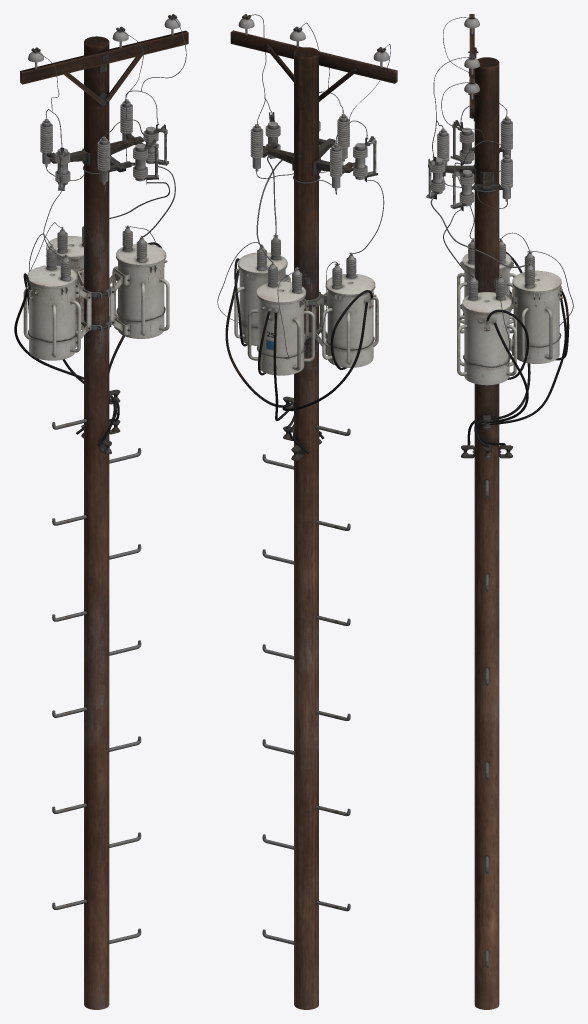
The model's file is wood_pole_01.fbx.
3 views of the same model, side by side, from view 1: azimuth 30°, elevation 25°; view 2: azimuth 150°, elevation 25°; view 3: azimuth 270°, elevation 25° (orthographic). The views are drawn at different scales.
Parts seen in each view (by area): view 1: 1_wood_pole; view 2: 1_wood_pole; view 3: 1_wood_pole.
Part boxes in pixels (x1,y1,x2,y2): 1_wood_pole: [14, 14, 188, 1009]; 1_wood_pole: [217, 14, 397, 1009]; 1_wood_pole: [426, 14, 573, 1009].
Bounding box in the file's own units: 250 × 1407 × 196.
Materials: 1 (1 with a texture image).
